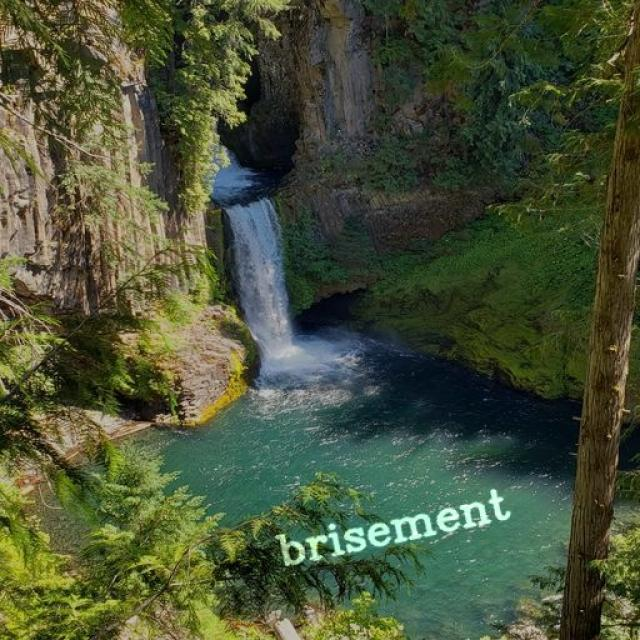watermark: (270, 484, 512, 573)
